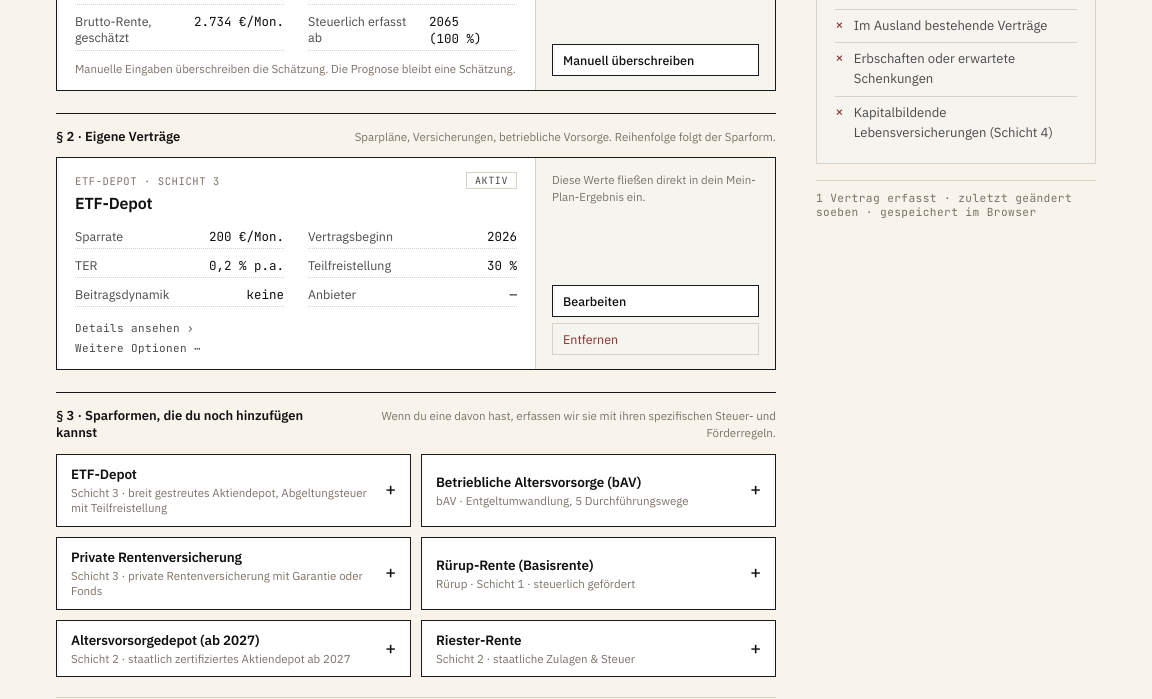
Scenario: /eingaben/produkte — Entfernen is reversible › records an undo handle and surfaces "… · Rückgängig" after a removal
The image size is (1152, 699).
(page scrolled)
Click the button "Entfernen". click: (656, 340)
box: left=552, top=324, right=759, bottom=356
(page scrolled)
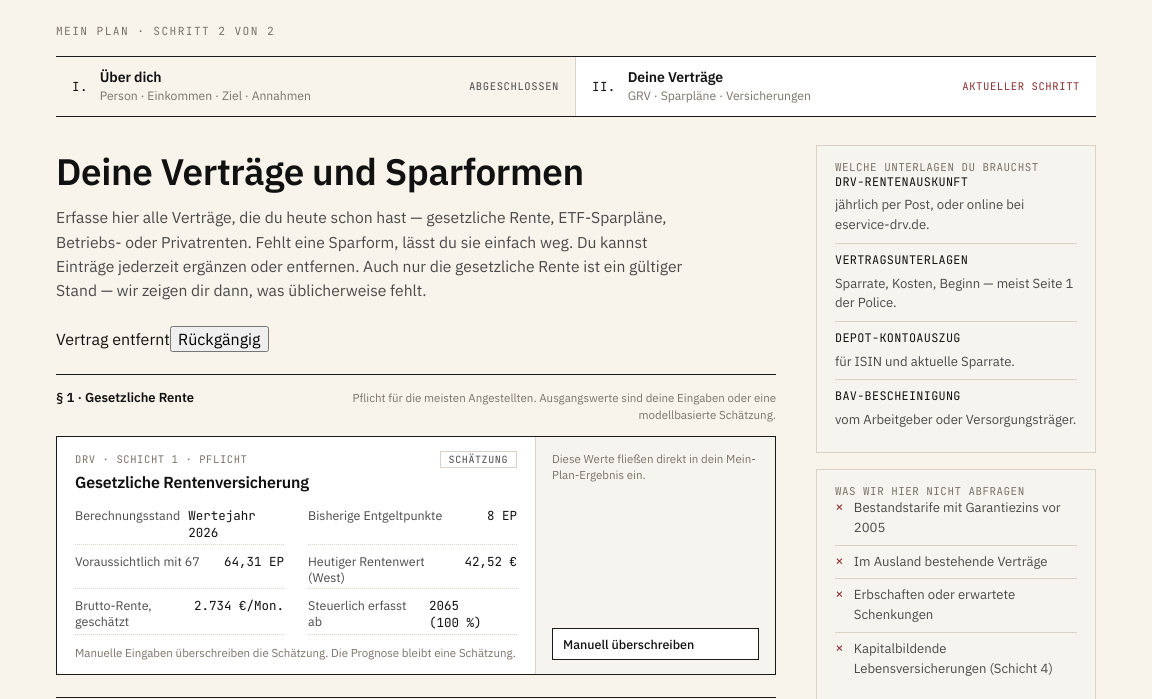
Check: the message shows "Vertrag entfernt", box left=56, top=330, right=170, bottom=350
Check: the button "Rückgängig" is shown, box left=170, top=326, right=269, bottom=352
